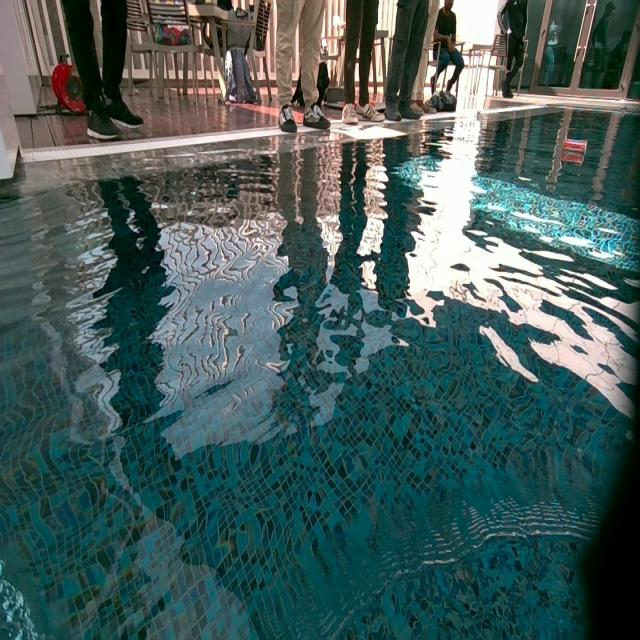Cans: (561, 140, 588, 158)
